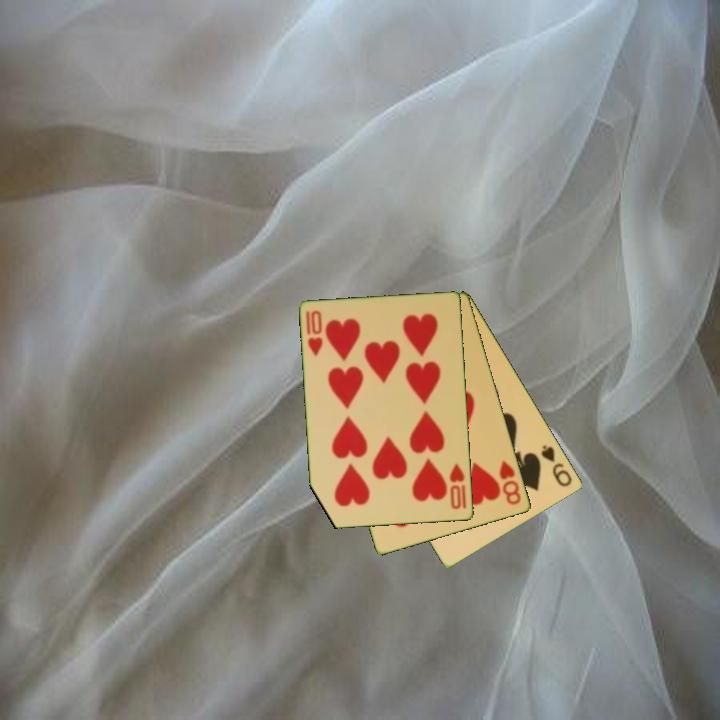10h: (303, 307, 326, 359), (447, 460, 468, 512)
8h: (496, 457, 524, 508)
9s: (538, 442, 575, 490)
